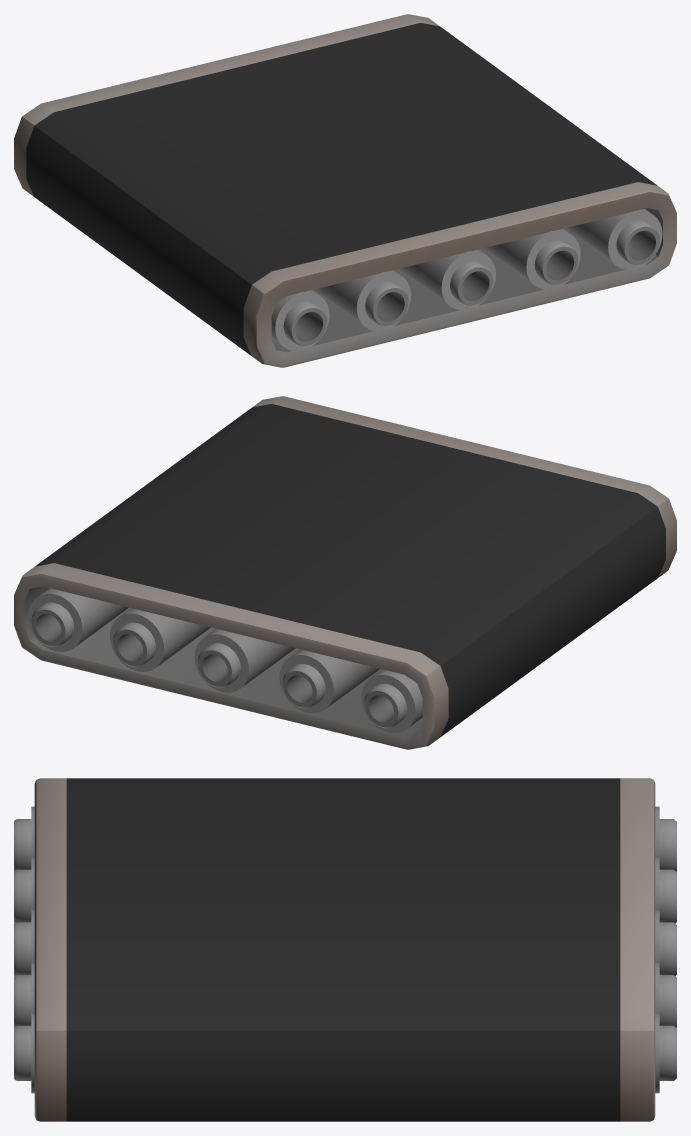
The model's file is liukuhihna_lyhyt.fbx.
The picture shows the model from 3 angles, top to bottom: view 1: azimuth 30°, elevation 25°; view 2: azimuth 150°, elevation 25°; view 3: azimuth 270°, elevation 25°; orthographic projection. The views are drawn at different scales.
Parts seen in each view (by area): view 1: liukuhihna_lyhyt; view 2: liukuhihna_lyhyt; view 3: liukuhihna_lyhyt.
Boxes of the visible parts, bbox=[...] form: liukuhihna_lyhyt: bbox=[14, 14, 676, 367]; liukuhihna_lyhyt: bbox=[14, 396, 676, 749]; liukuhihna_lyhyt: bbox=[14, 778, 676, 1121].
Size of the model in its own units: 99.99 by 20.07 by 107.
Materials: 2 (1 with a texture image).
